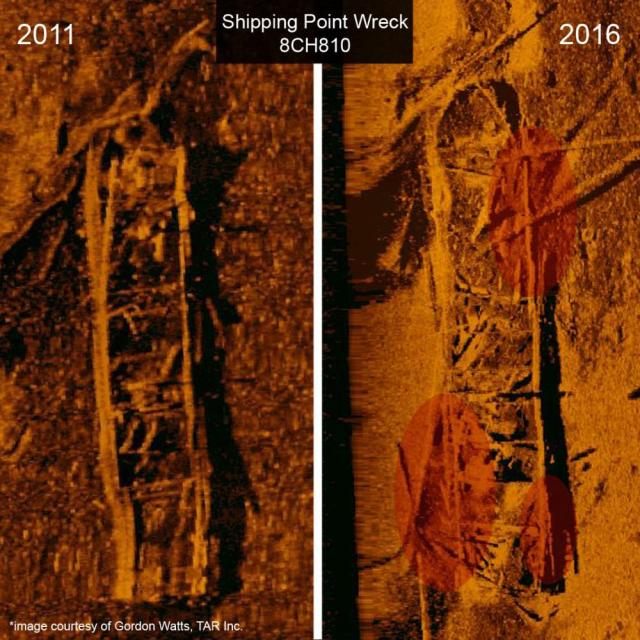ship: (82, 111, 235, 611), (426, 83, 570, 600)
